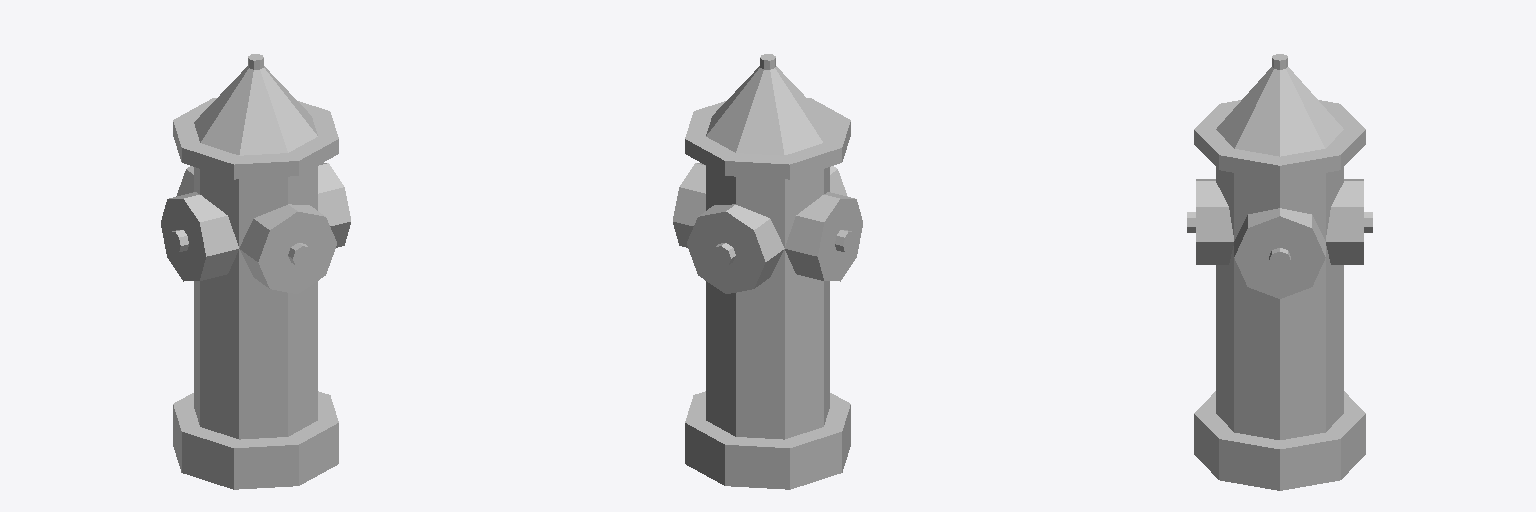
Rendered from Props_Hydrant.obj.
3 renders of one model, left to right at view 1: azimuth 30°, elevation 25°; view 2: azimuth 150°, elevation 25°; view 3: azimuth 270°, elevation 25°, orthographic.
Parts seen in each view (by area): view 1: Props_Hydrant; view 2: Props_Hydrant; view 3: Props_Hydrant.
Part boxes in pixels (x1,y1,x2,y2): Props_Hydrant: (161,54,350,489); Props_Hydrant: (673,54,862,489); Props_Hydrant: (1187,54,1372,490).
Bounding box in the file's own units: 17.13 × 40.17 × 17.13.